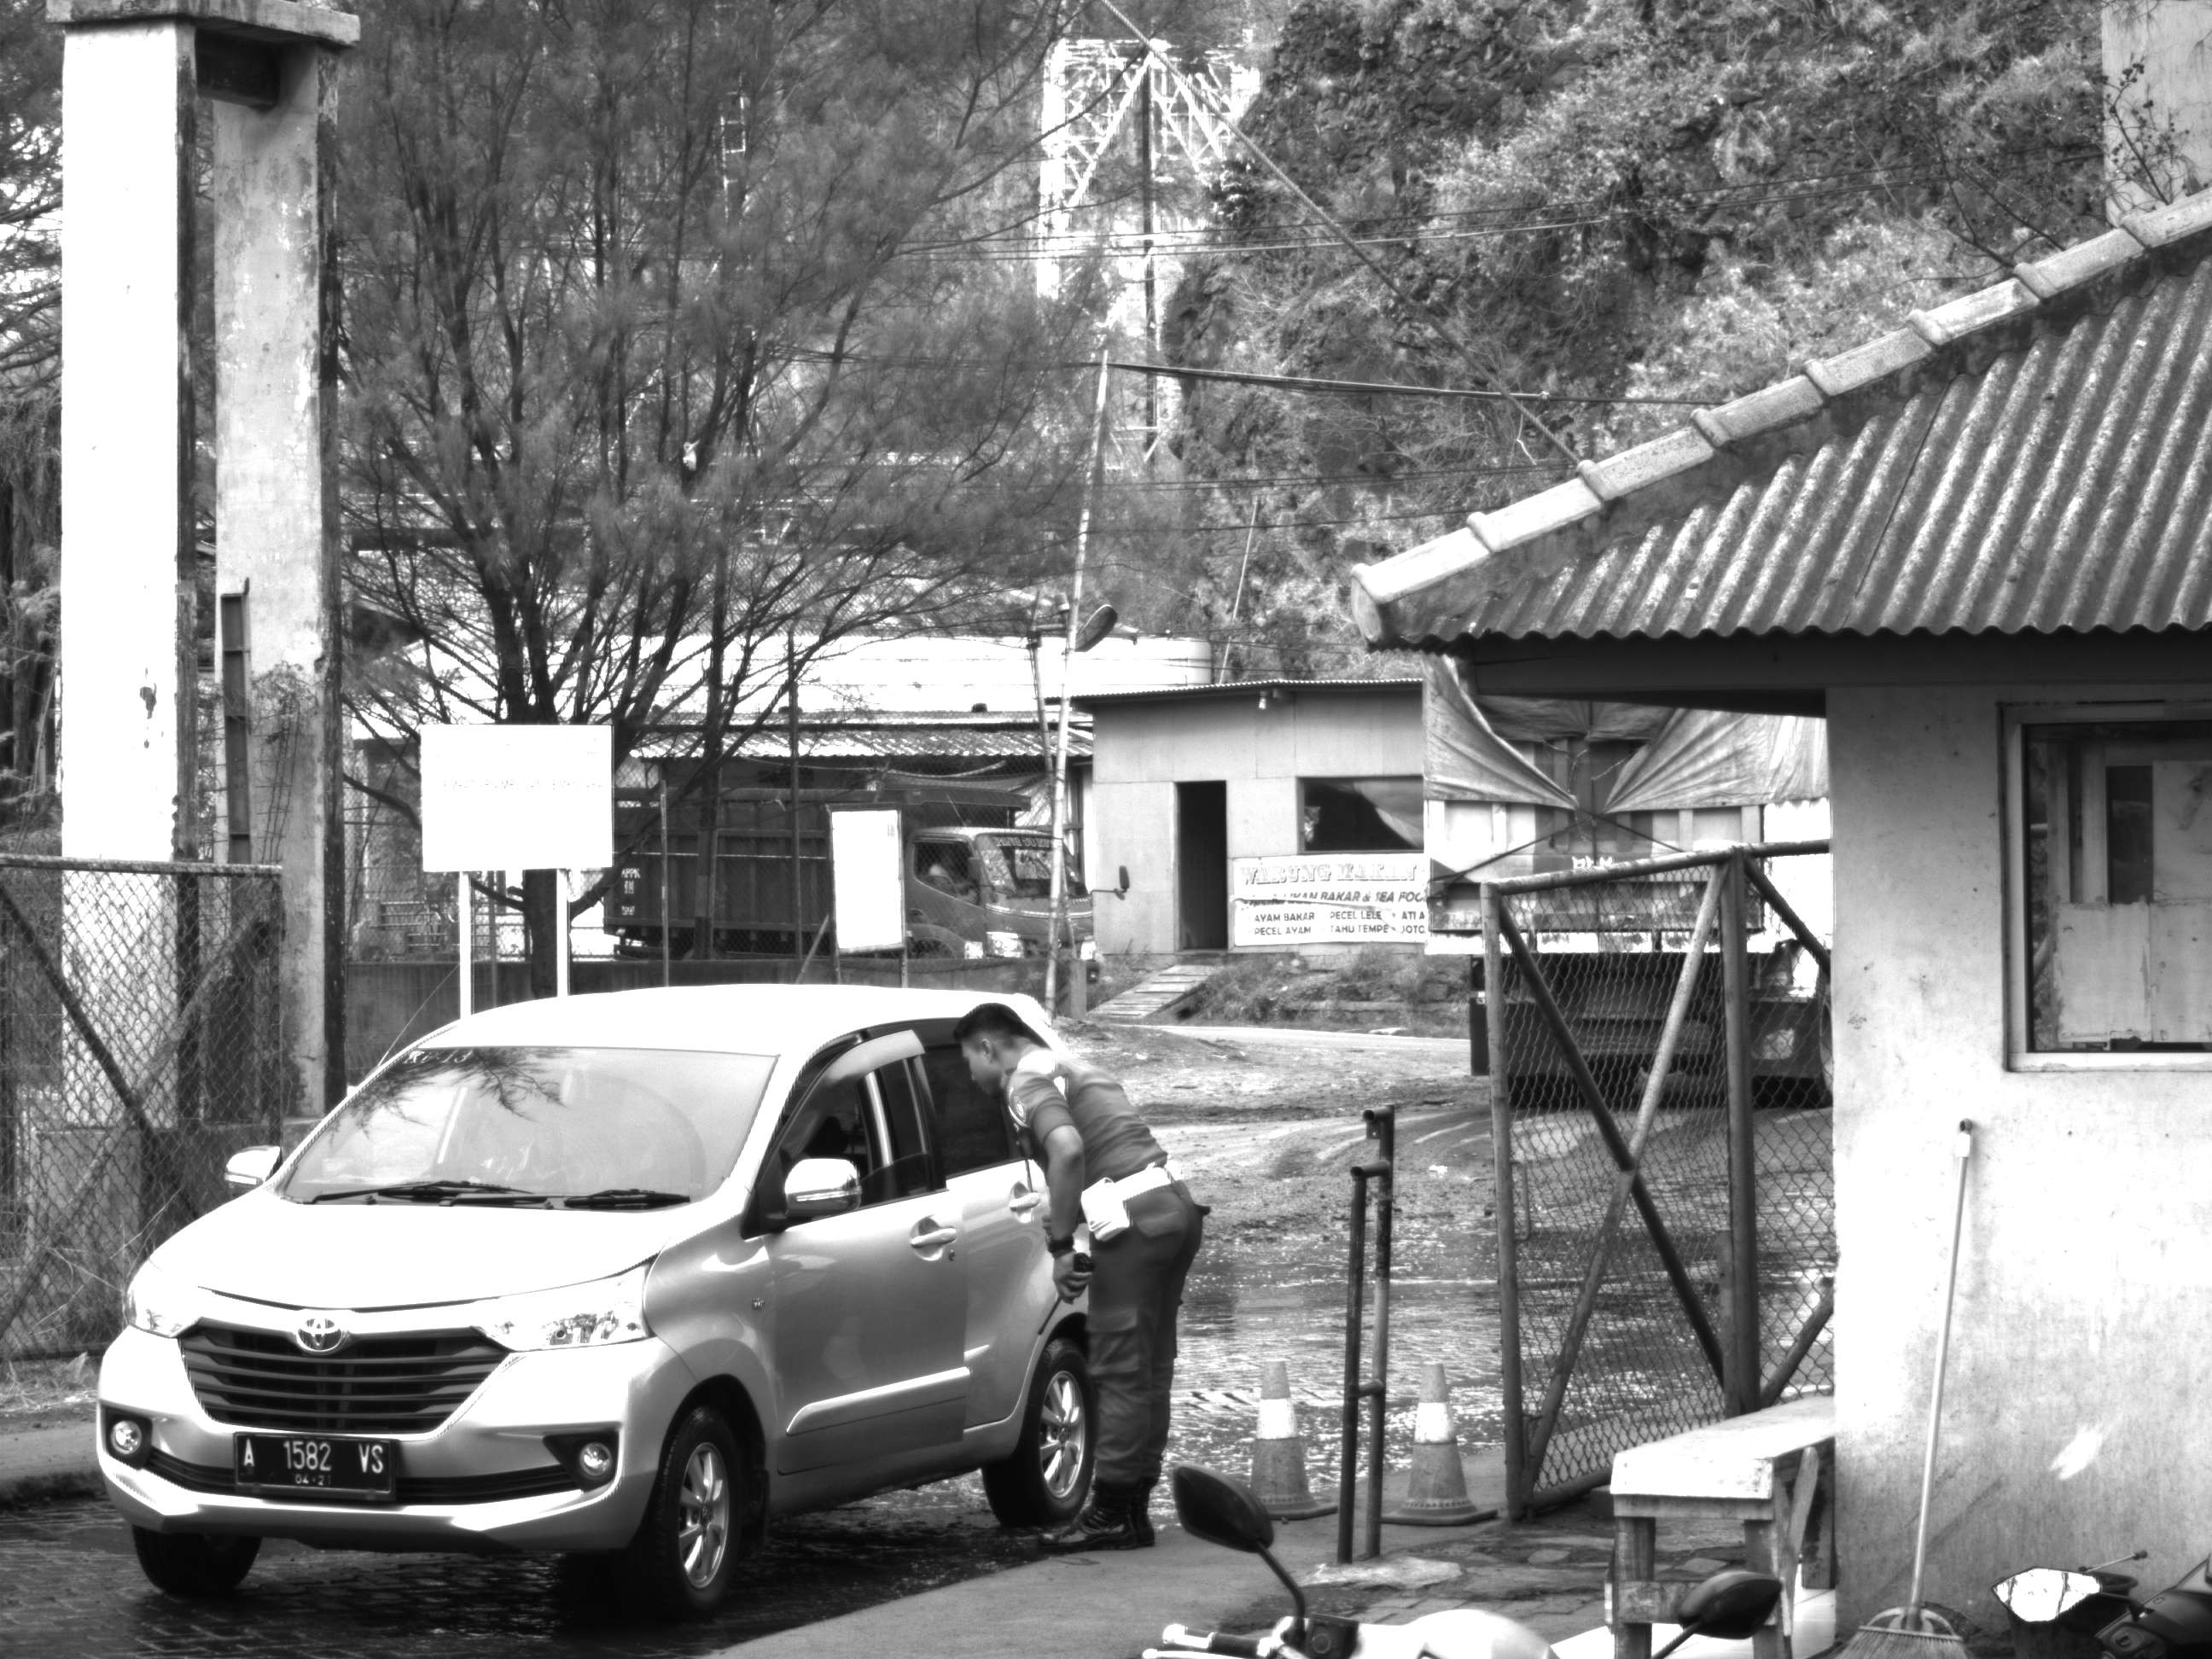day_small_front: (96, 1011, 773, 1633)
plate: (228, 1429, 405, 1501)
